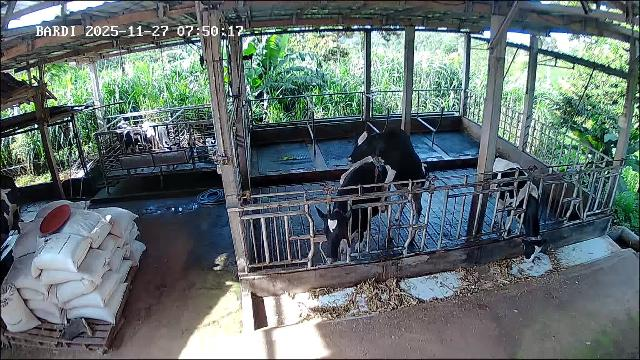mounting: (338, 128, 435, 240)
